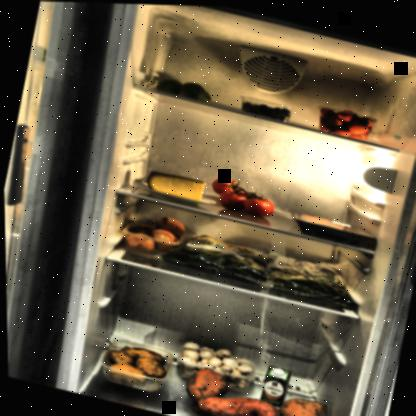beef: (282, 206, 375, 248)
blueberries: (235, 91, 298, 122)
cheese: (143, 165, 207, 203)
green_beans: (259, 248, 368, 311)
heavy_cream: (256, 362, 291, 408)
lime: (155, 73, 215, 102)
mushrooms: (172, 336, 262, 395)
onion: (116, 205, 188, 264)
potato: (94, 331, 175, 394)
spinach: (154, 225, 272, 287)
strawberries: (311, 97, 377, 139)
sweet_potato: (177, 358, 334, 415)
tomato: (205, 172, 280, 219)
